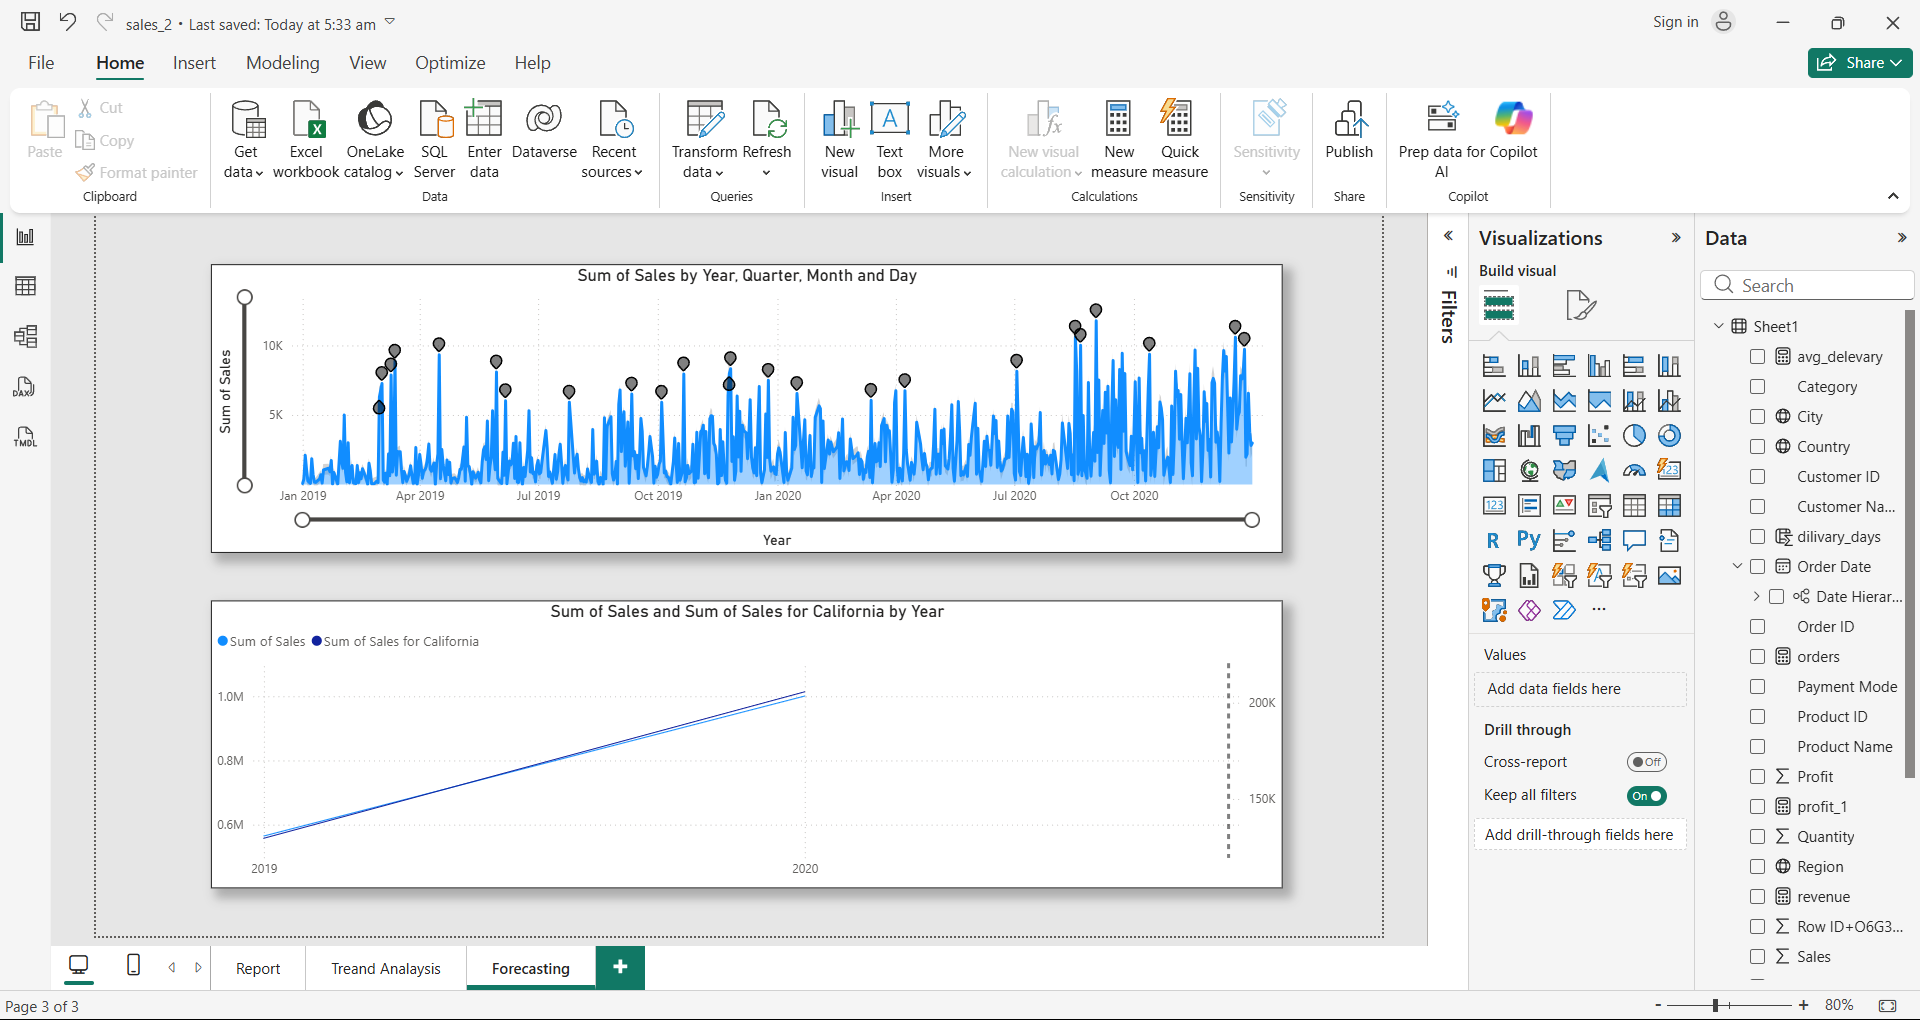

The dashboard page shown, as its layout file describes it:
{"tool":"powerbi","page":{"name":"Forecasting","canvas":[1280,720],"ordinal":2},"visuals":[{"type":"lineChart","fields":{"Y":["Sum(Sheet1.Sales)"],"Category":["Sheet1.Order Date.Variation.Date Hierarchy.Year","Sheet1.Order Date.Variation.Date Hierarchy.Quarter","Sheet1.Order Date.Variation.Date Hierarchy.Month","Sheet1.Order Date.Variation.Date Hierarchy.Day"]},"box":[114.7,51.3,1066.1,287.5],"z":0},{"type":"lineChart","fields":{"Y":["Sum(Sheet1.Sales)"],"Category":["Sheet1.Order Date.Variation.Date Hierarchy.Year","Sheet1.Order Date.Variation.Date Hierarchy.Quarter","Sheet1.Order Date.Variation.Date Hierarchy.Month","Sheet1.Order Date.Variation.Date Hierarchy.Day"],"Y2":["FilteredEval(Sum(Sheet1.Sales), [{Condition(expr)}])"]},"box":[114.4,385.6,1066.1,286.1],"z":1000}]}

Visuals, with their boxes on the page's 1280x720 design canvas (x1, y1, x2, y2). These are canvas units, not pixel positions in the 1920x1020 screenshot, which may show the page scaled, cropped or inside an application window:
lineChart - Sum(Sheet1.Sales) x Sheet1.Order Date.Variation.Date Hierarchy.Year: [left=115, top=51, right=1181, bottom=339]
lineChart - Sum(Sheet1.Sales) x Sheet1.Order Date.Variation.Date Hierarchy.Year: [left=114, top=386, right=1180, bottom=672]
